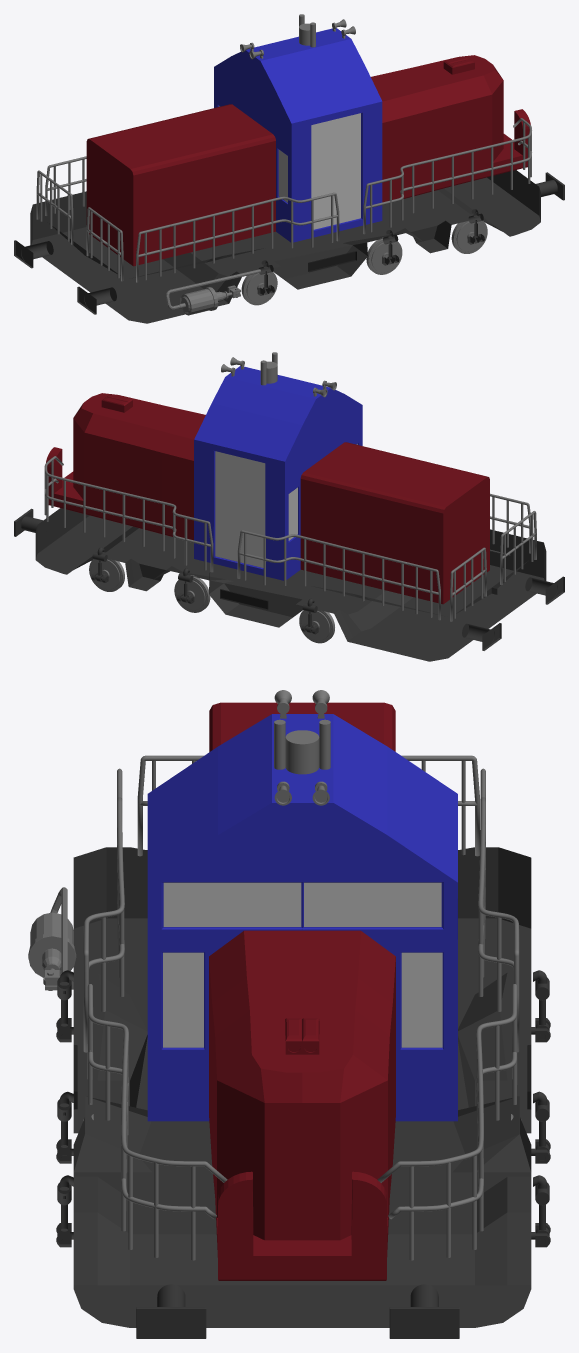
The model's file is Lok_001.fbx.
The picture shows the model from 3 angles, top to bottom: view 1: azimuth 30°, elevation 25°; view 2: azimuth 150°, elevation 25°; view 3: azimuth 270°, elevation 25°; orthographic projection. The views are drawn at different scales.
Parts seen in each view (by area): view 1: Lok; view 2: Lok; view 3: Lok.
Part boxes in pixels (x1,y1,x2,y2): Lok: (14, 14, 564, 323); Lok: (14, 352, 564, 661); Lok: (28, 690, 550, 1338).
Bounding box in the file's own units: 1035 × 465 × 497.
